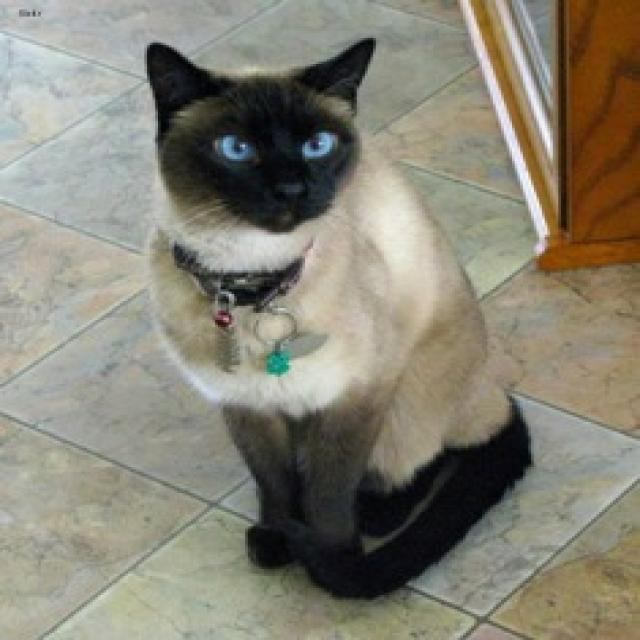Siamese: (142, 35, 371, 230)
